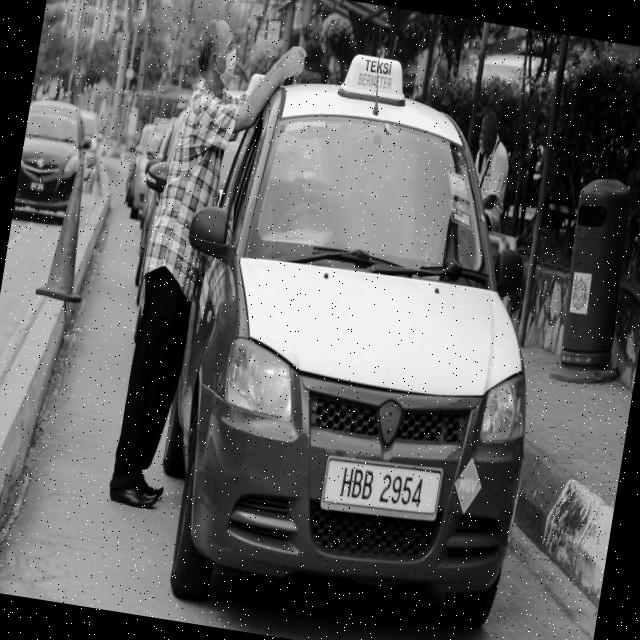License_Plate: (322, 453, 445, 525)
car: (136, 28, 586, 640)
